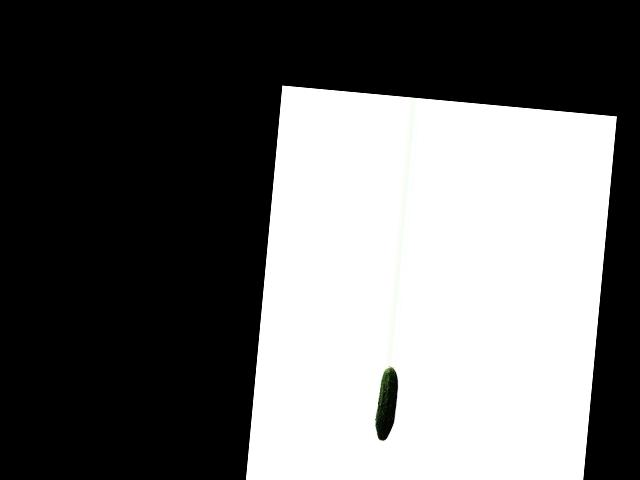cucumber: (374, 366, 399, 441)
